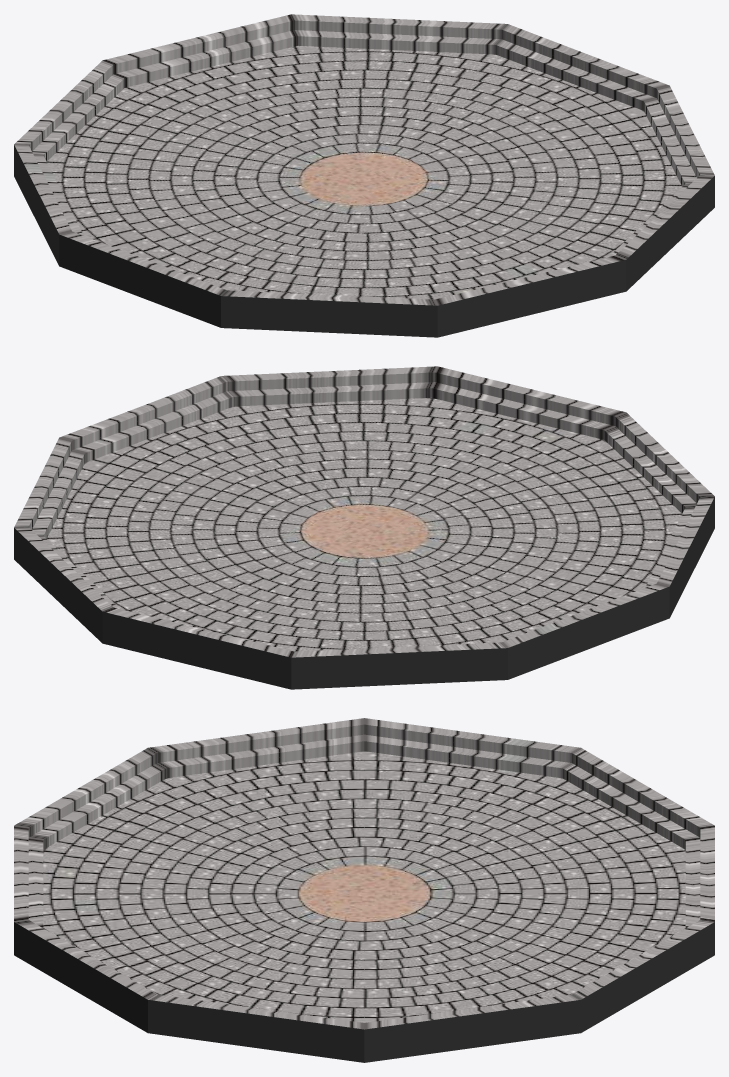
Rendered from starting point.FBX.
The picture shows the model from 3 angles, top to bottom: view 1: azimuth 30°, elevation 25°; view 2: azimuth 150°, elevation 25°; view 3: azimuth 270°, elevation 25°; orthographic projection. The views are drawn at different scales.
Parts seen in each view (by area): view 1: Gengon001, Object001; view 2: Gengon001, Object001; view 3: Gengon001, Object001.
Boxes of the visible parts, x1=… form: Gengon001: x1=14, y1=14, x2=714, y2=305; Object001: x1=14, y1=145, x2=714, y2=337; Gengon001: x1=14, y1=366, x2=714, y2=657; Object001: x1=14, y1=497, x2=714, y2=689; Gengon001: x1=14, y1=718, x2=714, y2=1029; Object001: x1=14, y1=922, x2=714, y2=1062.
Bounding box in the file's own units: 200 × 10 × 190.
Materials: 2 (1 with a texture image).
